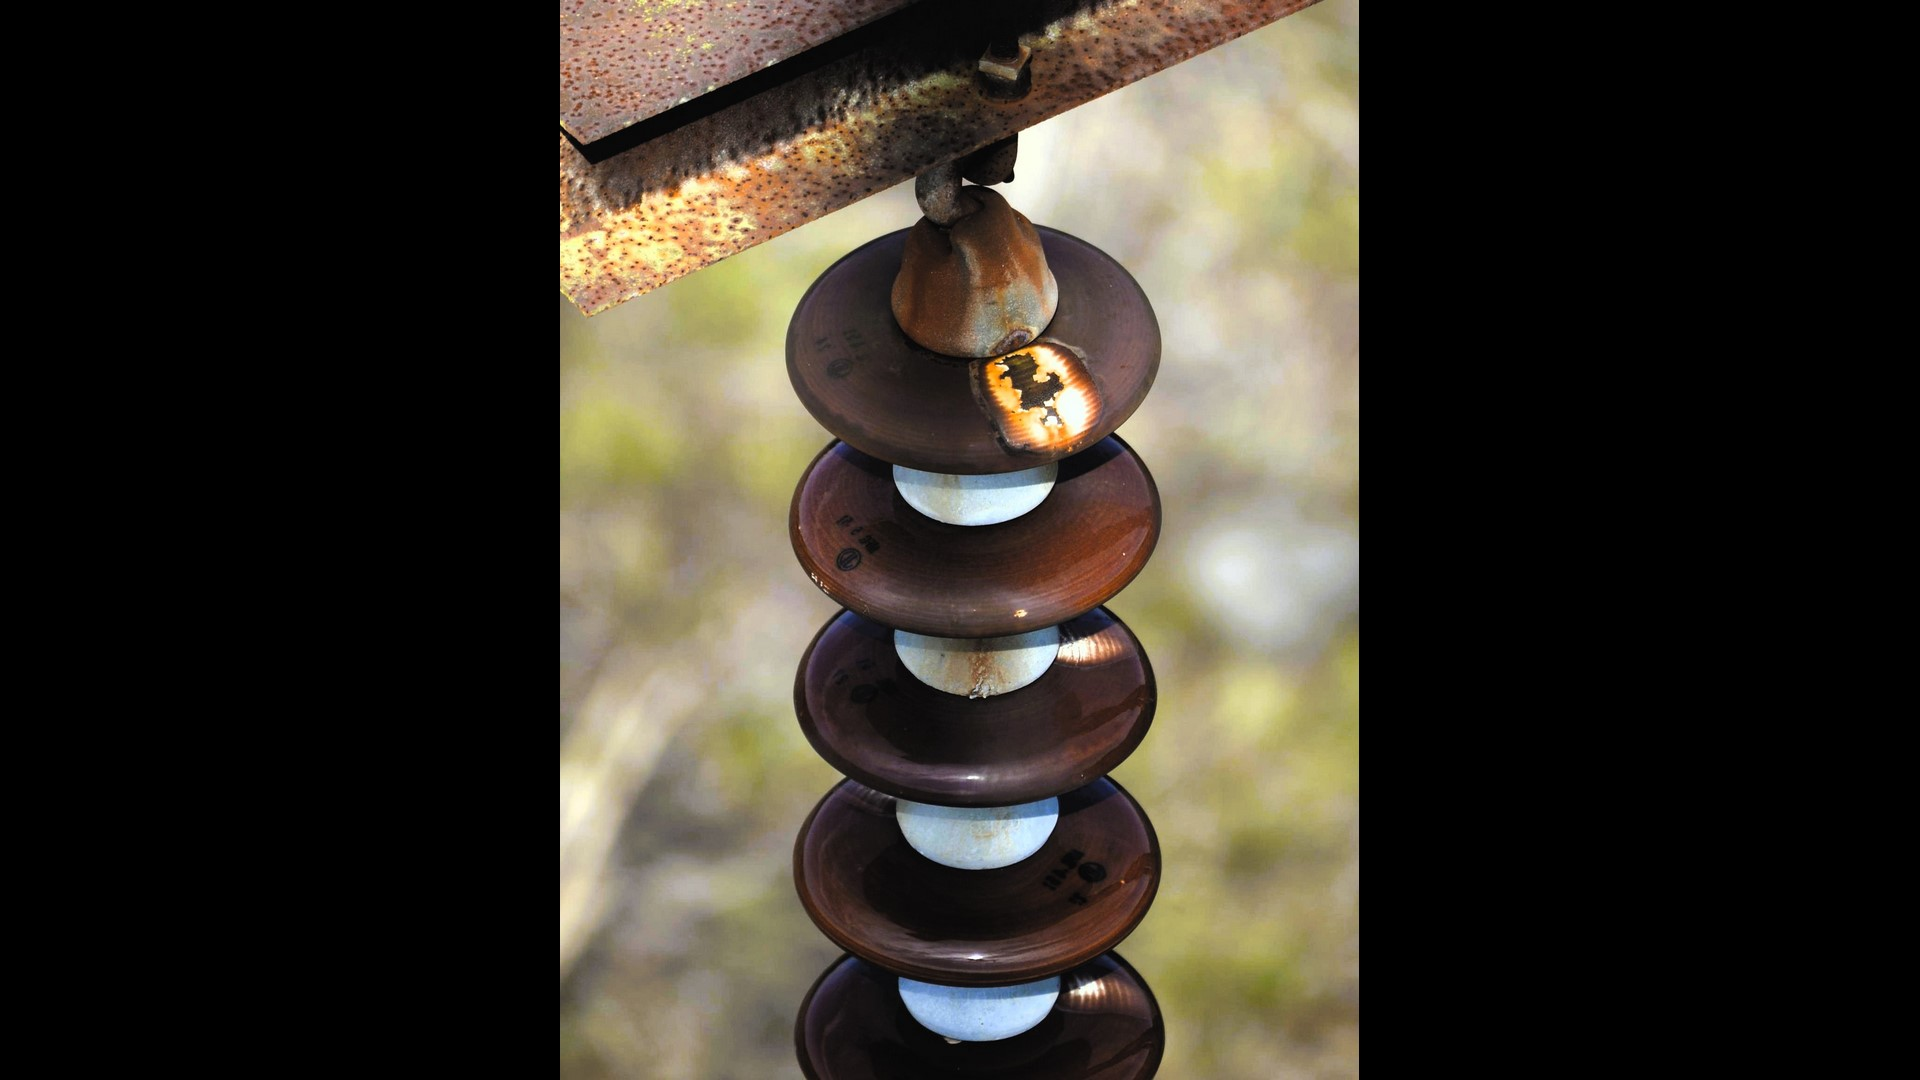Insulator flashover: (779, 210, 1174, 477)
